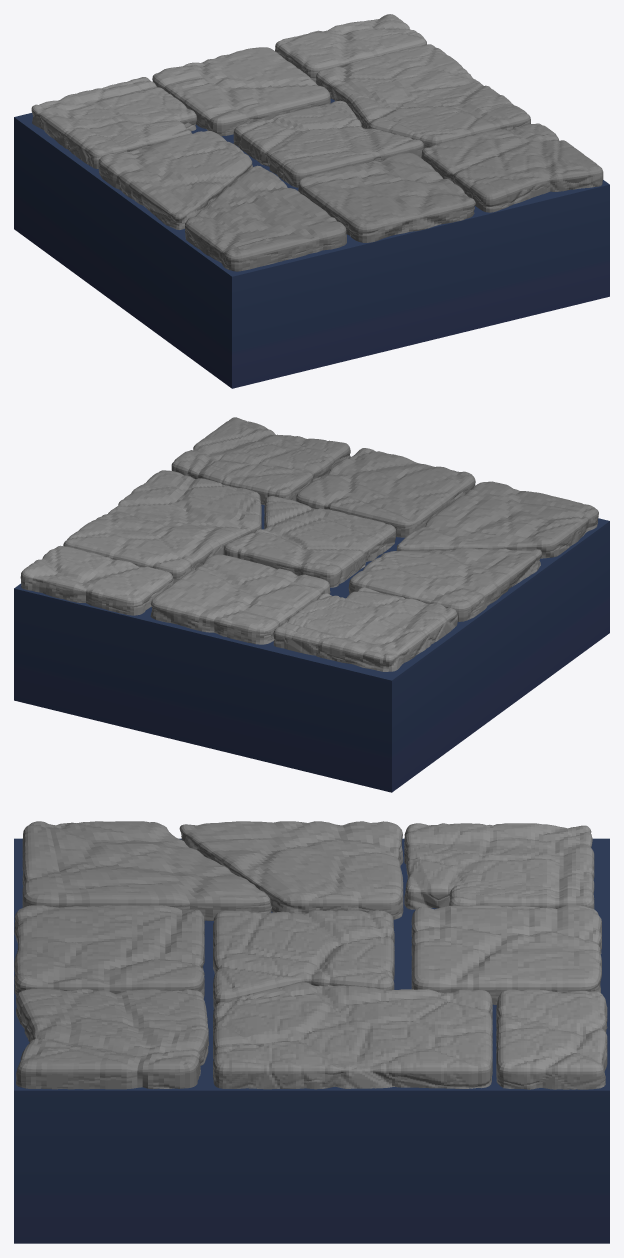
Rendered from Piso-2.fbx.
3 renders of one model, top to bottom at view 1: azimuth 30°, elevation 25°; view 2: azimuth 150°, elevation 25°; view 3: azimuth 270°, elevation 25°, orthographic. The views are drawn at different scales.
Visible parts, largest first — view 1: Cube.027, FlorrMid 1; view 2: Cube.027, FlorrMid 1; view 3: Cube.027, FlorrMid 1.
Boxes of the visible parts, box(x1,y1,x2,y2) form: Cube.027: box(31, 14, 603, 271); FlorrMid 1: box(14, 98, 609, 388); Cube.027: box(20, 417, 598, 671); FlorrMid 1: box(14, 504, 609, 792); Cube.027: box(14, 821, 607, 1089); FlorrMid 1: box(14, 838, 609, 1243).
Bounding box in the file's own units: 600 × 196 × 600.
